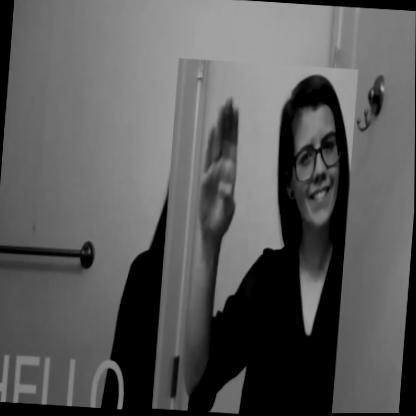Hello: (153, 57, 359, 415)
